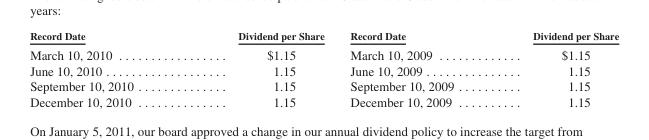table: (29, 29, 618, 108)
table column: (29, 29, 185, 108), (336, 29, 492, 108), (185, 29, 336, 108), (492, 29, 618, 108)
table column header: (29, 29, 618, 44)
table row: (29, 44, 618, 62), (29, 62, 618, 78), (29, 29, 618, 44), (29, 78, 618, 93), (29, 93, 618, 108)
